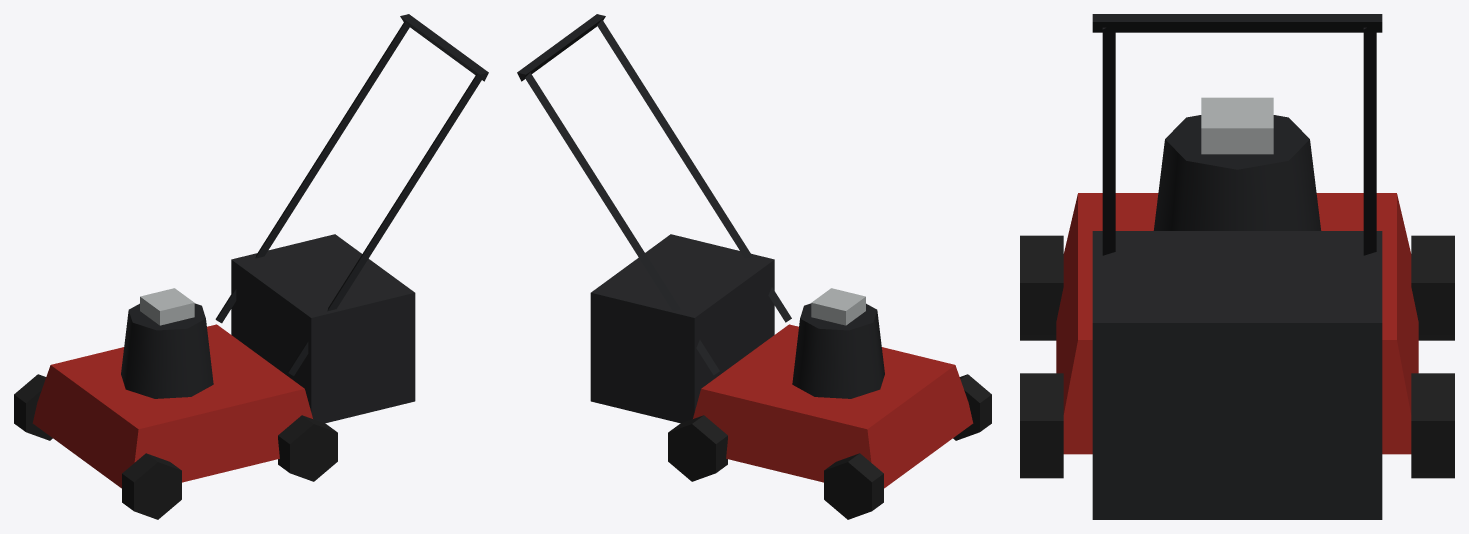
The model's file is lawnmower.glb.
3 views of the same model, side by side, from view 1: azimuth 30°, elevation 25°; view 2: azimuth 150°, elevation 25°; view 3: azimuth 270°, elevation 25° (orthographic). The views are drawn at different scales.
Parts seen in each view (by area): view 1: lawnmower; view 2: lawnmower; view 3: lawnmower.
Part boxes in pixels (x1,y1,x2,y2): lawnmower: [14, 14, 488, 519]; lawnmower: [517, 14, 991, 519]; lawnmower: [1020, 14, 1454, 519].
Bounding box in the file's own units: 1.08 × 0.9575 × 0.6.
1 material, 1 textured.
